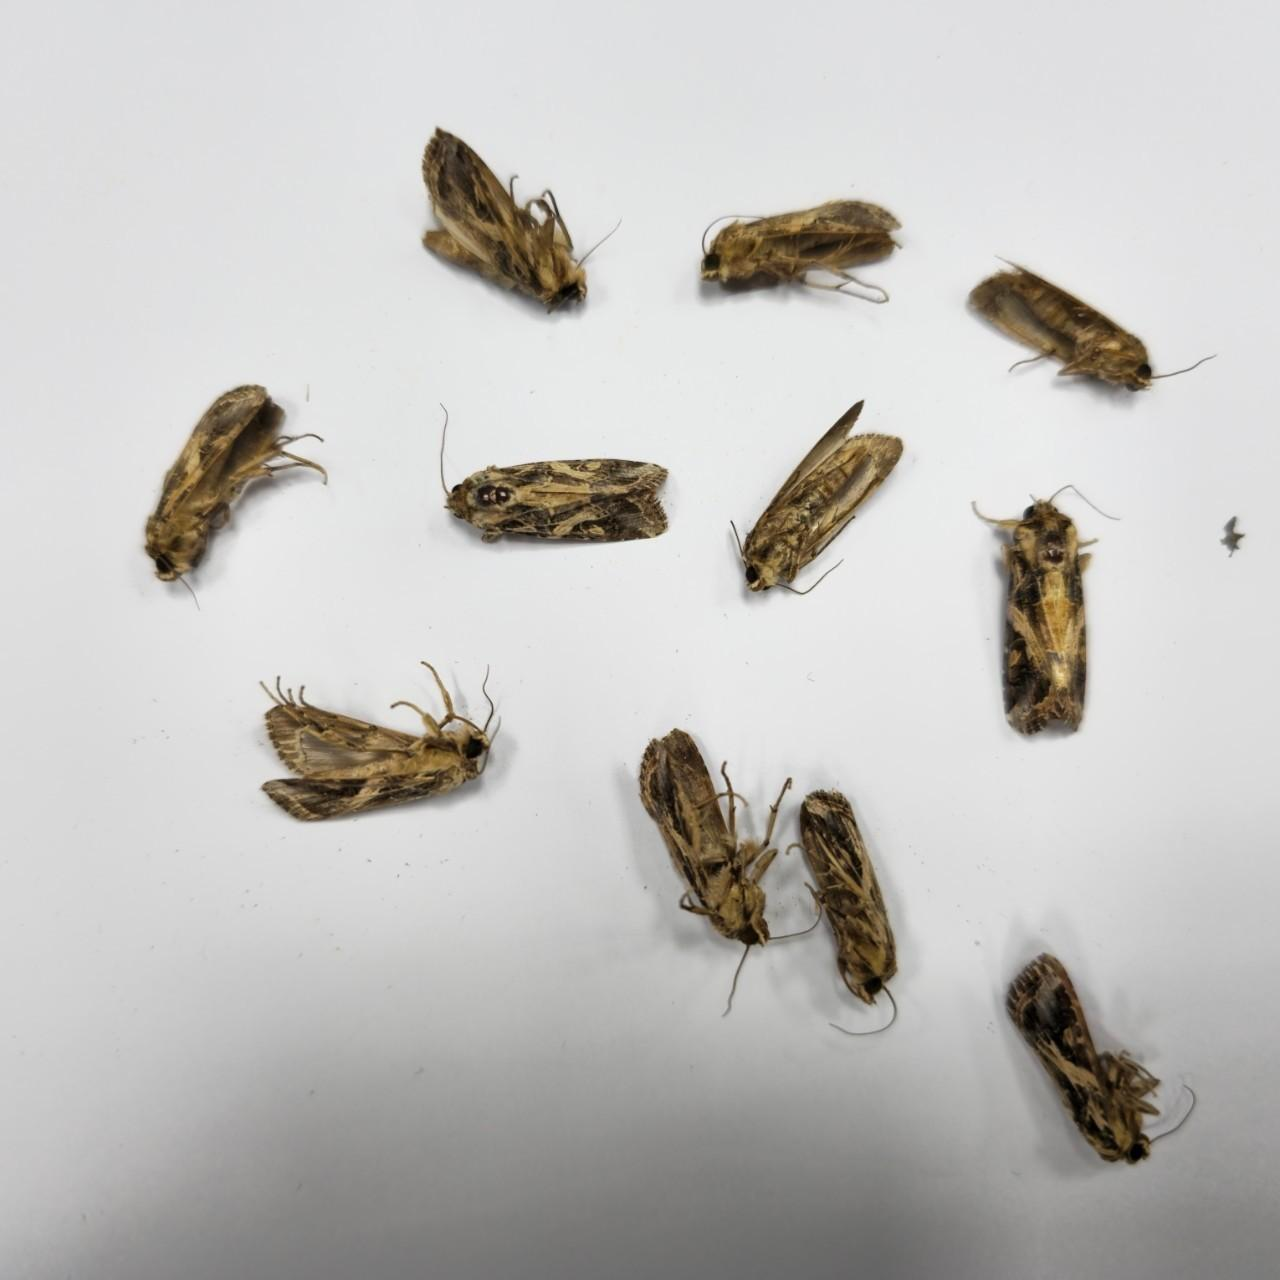Spodoptera litura: (636, 728, 824, 1019), (145, 384, 328, 611), (1005, 952, 1197, 1165), (257, 661, 503, 821), (421, 124, 622, 319), (972, 481, 1123, 736), (967, 251, 1217, 392), (729, 397, 903, 595), (440, 400, 670, 544), (785, 787, 896, 1035), (700, 200, 903, 304)
